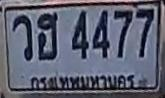4: (92, 9, 109, 57), (71, 10, 88, 58)
7: (113, 9, 132, 57), (136, 8, 153, 57)
A37: (12, 14, 32, 60)
A44: (37, 12, 57, 59)
BKK: (26, 73, 139, 91)
